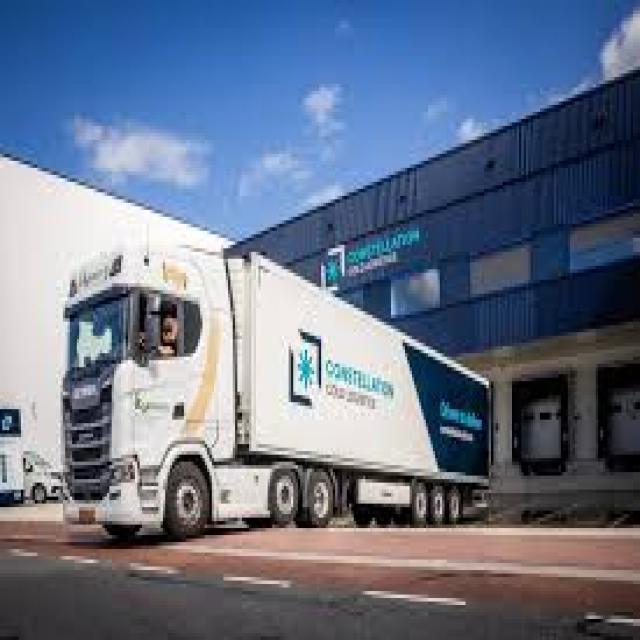covered: (56, 237, 493, 538)
